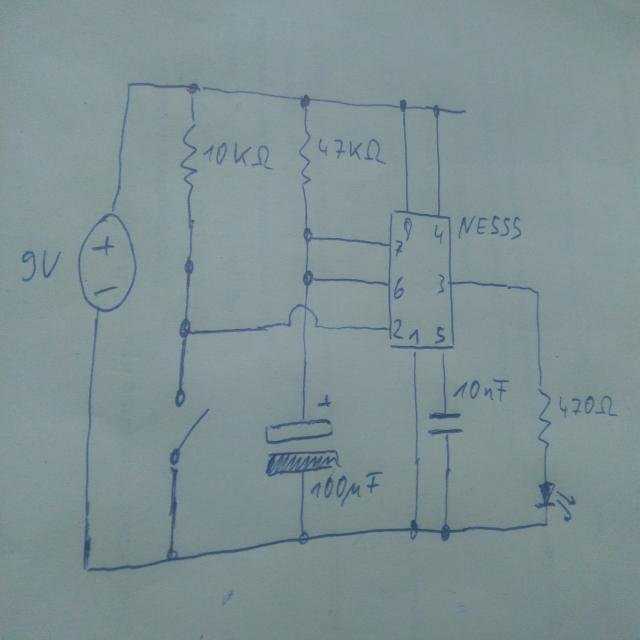capacitor: (260, 414, 340, 477), (426, 409, 465, 438)
crossover: (286, 301, 320, 332)
diode: (532, 479, 578, 523)
junction: (181, 74, 203, 101), (391, 95, 414, 118), (424, 99, 446, 122), (75, 554, 95, 578), (160, 544, 179, 566), (437, 519, 453, 543), (179, 256, 195, 278), (298, 91, 314, 111), (300, 269, 316, 289), (177, 319, 193, 339), (300, 226, 315, 246), (408, 517, 420, 542), (529, 282, 543, 303), (296, 530, 309, 547), (123, 80, 135, 92), (541, 518, 551, 532)
resistor: (178, 120, 200, 193), (536, 383, 554, 456), (296, 125, 314, 191)
source: (76, 209, 140, 315)
switch: (166, 387, 212, 469)
text: (310, 471, 382, 508), (316, 134, 389, 167), (201, 140, 273, 171), (457, 212, 523, 242), (17, 247, 64, 285), (451, 375, 510, 405), (558, 394, 618, 419), (393, 275, 404, 300), (392, 318, 404, 340), (403, 216, 413, 242), (433, 223, 444, 245), (434, 326, 446, 344), (436, 273, 445, 296), (408, 328, 419, 345), (394, 240, 403, 258)
